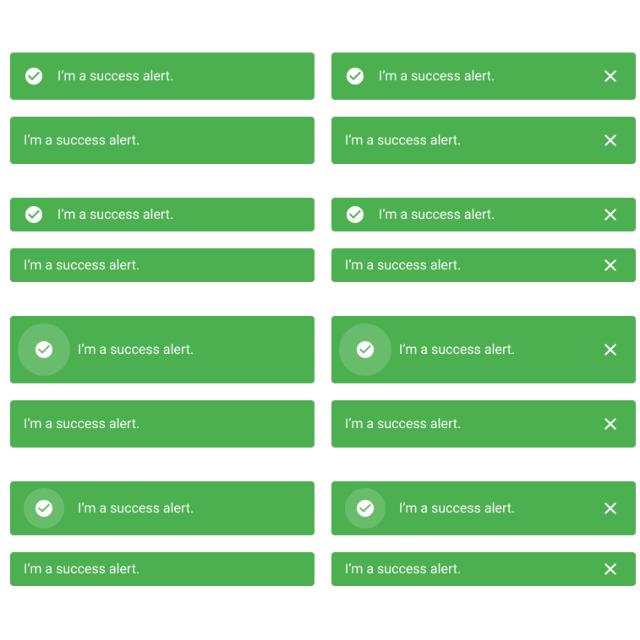QLabel: (22, 414, 142, 432), (76, 499, 194, 516), (57, 206, 173, 222), (56, 68, 174, 82), (22, 258, 140, 272), (76, 341, 194, 355), (22, 562, 140, 576), (377, 68, 495, 82), (343, 132, 461, 146), (344, 258, 462, 272), (397, 342, 515, 356), (344, 416, 462, 430), (344, 562, 462, 576), (23, 133, 139, 147), (399, 500, 515, 514), (378, 207, 494, 220)
VAlert: (10, 314, 314, 384), (331, 314, 635, 384), (332, 480, 636, 536), (11, 482, 315, 534), (332, 399, 636, 448), (330, 115, 636, 163), (9, 51, 314, 99), (10, 115, 314, 163), (10, 399, 314, 447), (332, 52, 636, 98), (332, 246, 636, 282), (9, 247, 314, 281), (10, 552, 314, 586), (332, 197, 636, 231), (332, 552, 636, 586), (11, 197, 315, 230), (355, 340, 373, 360), (35, 340, 53, 360), (34, 499, 54, 517), (346, 204, 364, 223), (346, 66, 364, 85), (24, 205, 42, 223), (600, 257, 620, 273), (24, 67, 44, 83), (357, 499, 375, 516), (603, 562, 619, 578), (603, 205, 617, 222), (602, 68, 618, 82), (602, 343, 618, 357), (603, 417, 617, 431), (604, 502, 618, 516), (604, 133, 616, 147)
